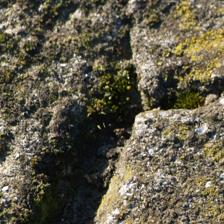Crack: (11, 38, 207, 183)
